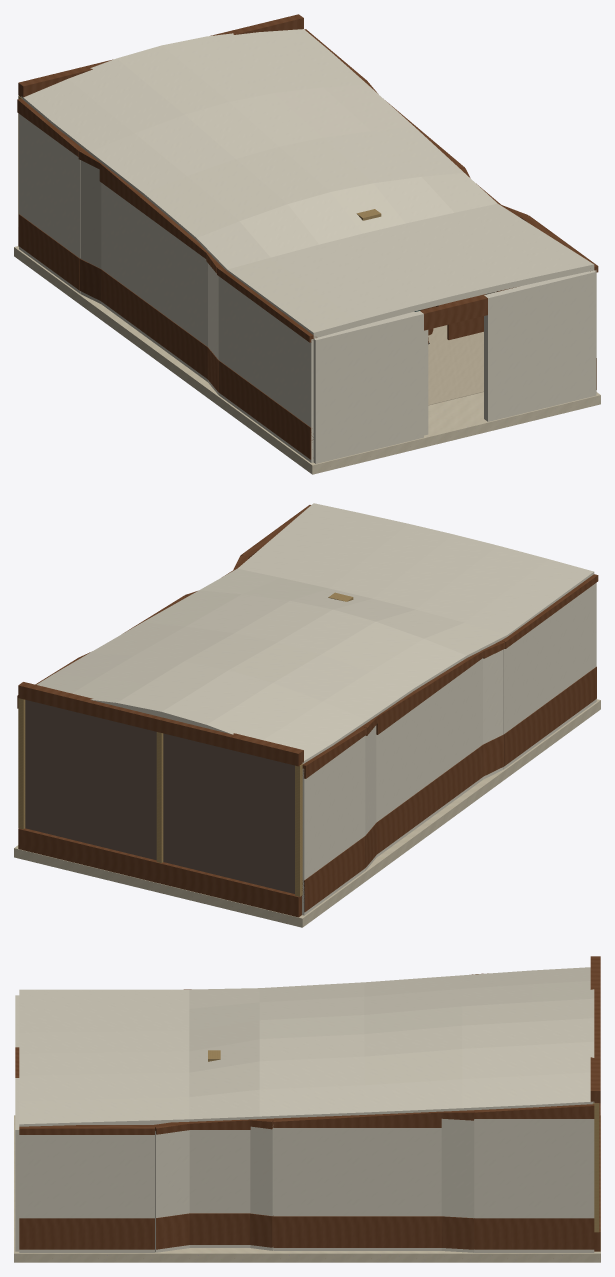
File: SC_r001__standard__fanned_front__L.glb
3 renders of one model, top to bottom at view 1: azimuth 30°, elevation 25°; view 2: azimuth 150°, elevation 25°; view 3: azimuth 270°, elevation 25°, orthographic.
Visible parts, largest first — view 1: SunsetRoomBatch_1, SunsetRoomBatch_2, SunsetRoomBatch_0, SunsetRoomBatch_6; view 2: SunsetRoomBatch_1, SunsetRoomBatch_4, SunsetRoomBatch_2, SunsetRoomBatch_0, SunsetRoomBatch_3; view 3: SunsetRoomBatch_1, SunsetRoomBatch_2, SunsetRoomBatch_0, SunsetRoomBatch_3.
Boxes of the visible parts, left/top/right/bottom form: SunsetRoomBatch_1: left=19, top=29, right=596, bottom=463; SunsetRoomBatch_2: left=17, top=14, right=598, bottom=459; SunsetRoomBatch_0: left=14, top=246, right=600, bottom=474; SunsetRoomBatch_6: left=428, top=292, right=495, bottom=405; SunsetRoomBatch_1: left=36, top=503, right=596, bottom=915; SunsetRoomBatch_4: left=25, top=700, right=294, bottom=893; SunsetRoomBatch_2: left=17, top=505, right=598, bottom=917; SunsetRoomBatch_0: left=14, top=699, right=600, bottom=927; SunsetRoomBatch_3: left=18, top=592, right=353, bottom=896; SunsetRoomBatch_1: left=15, top=967, right=594, bottom=1252; SunsetRoomBatch_2: left=15, top=956, right=600, bottom=1251; SunsetRoomBatch_0: left=14, top=1115, right=600, bottom=1262; SunsetRoomBatch_3: left=208, top=1050, right=599, bottom=1232.
Bounding box in the file's own units: 7.2 × 4.25 × 12.9.
Materials: 59 (52 with a texture image).
